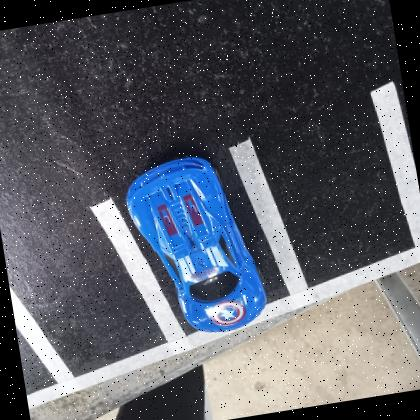Car: (126, 154, 267, 332)
